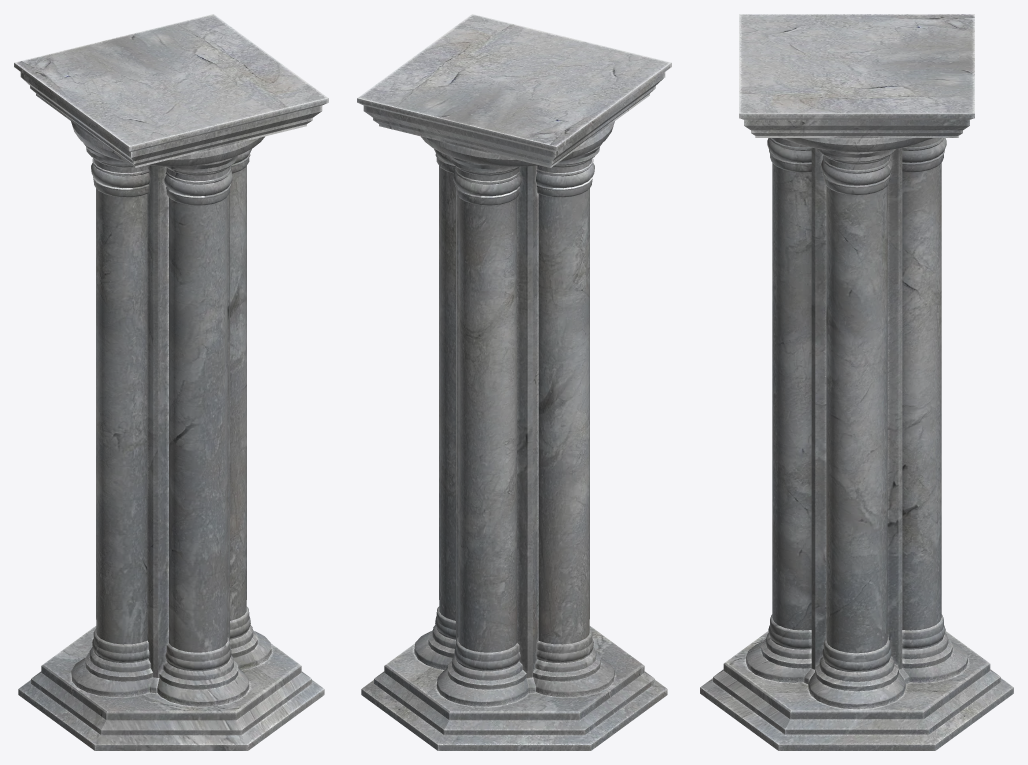
Rendered from PRP_Column.glb.
The picture shows the model from 3 angles, left to right: view 1: azimuth 30°, elevation 25°; view 2: azimuth 150°, elevation 25°; view 3: azimuth 270°, elevation 25°; orthographic projection. The views are drawn at different scales.
Visible parts, largest first — view 1: Object_4; view 2: Object_4; view 3: Object_4.
Boxes of the visible parts, <box> form: Object_4: <box>14,14,328,750</box>; Object_4: <box>357,14,671,750</box>; Object_4: <box>700,14,1013,750</box>.
Bounding box in the file's own units: 2.51 × 6.41 × 2.89.
1 material, 1 textured.
